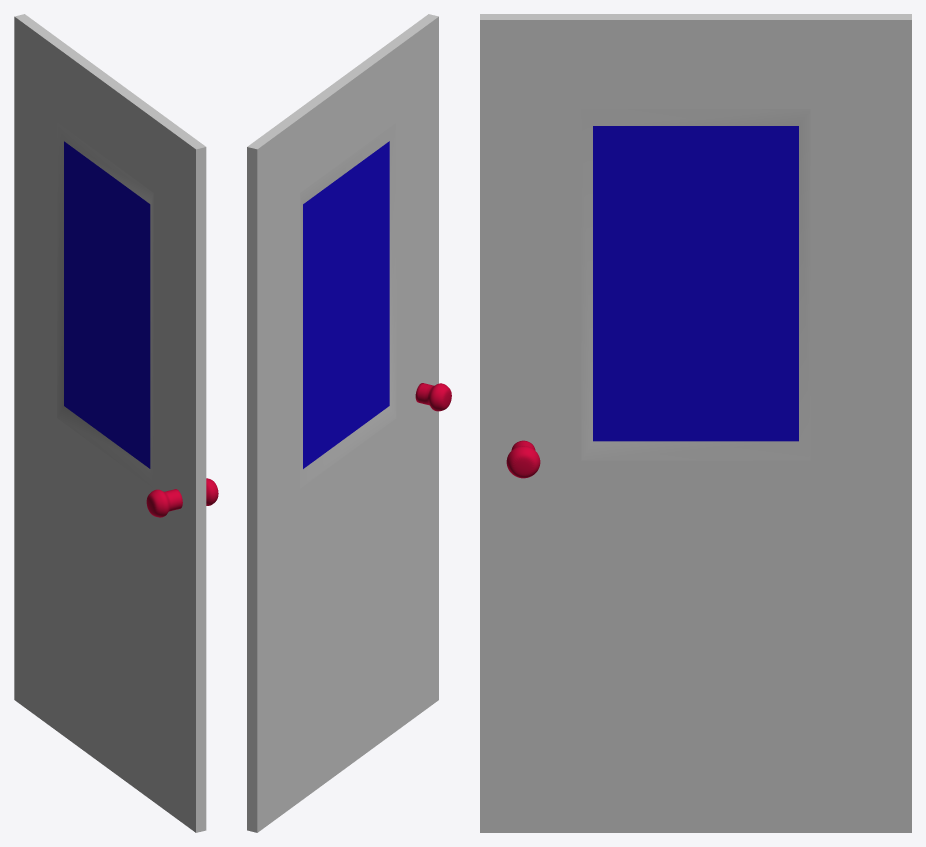
File: Door.fbx
The picture shows the model from 3 angles, left to right: view 1: azimuth 30°, elevation 25°; view 2: azimuth 150°, elevation 25°; view 3: azimuth 270°, elevation 25°; orthographic projection. The views are drawn at different scales.
Parts seen in each view (by area): view 1: Cube; view 2: Cube; view 3: Cube.
Part boxes in pixels (x1,y1,x2,y2): Cube: (14, 14, 218, 832); Cube: (247, 14, 451, 832); Cube: (480, 14, 911, 832).
Bounding box in the file's own units: 19.76 × 200 × 96.31.
